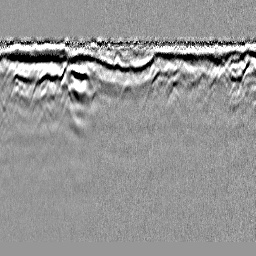cavity: (118, 78, 138, 105)
